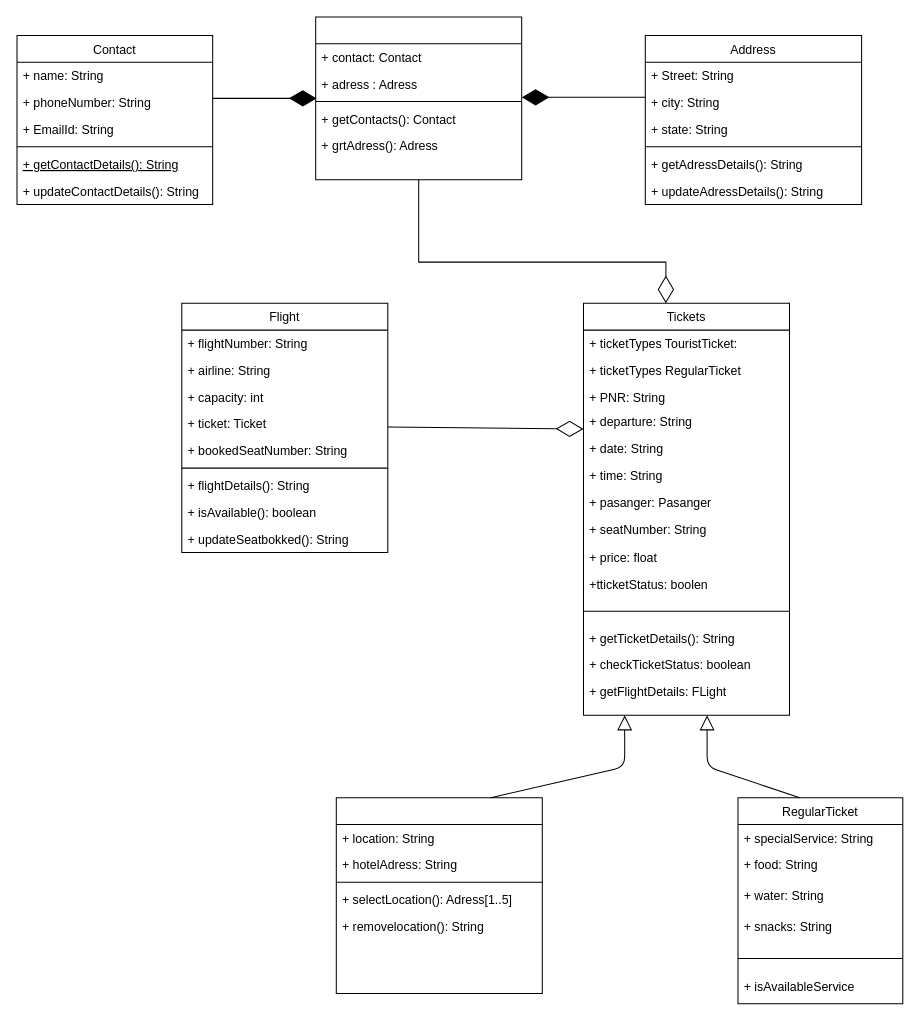
Image size: 920x1021. Some labels were removed from this diagram. The shapes that lost their labels are listed below. From the top down, each one's box as (x1, y1, x2, y2) in pixels, then its label:
(315, 16, 522, 180): Passanger
(335, 797, 542, 993): TouristTicket
